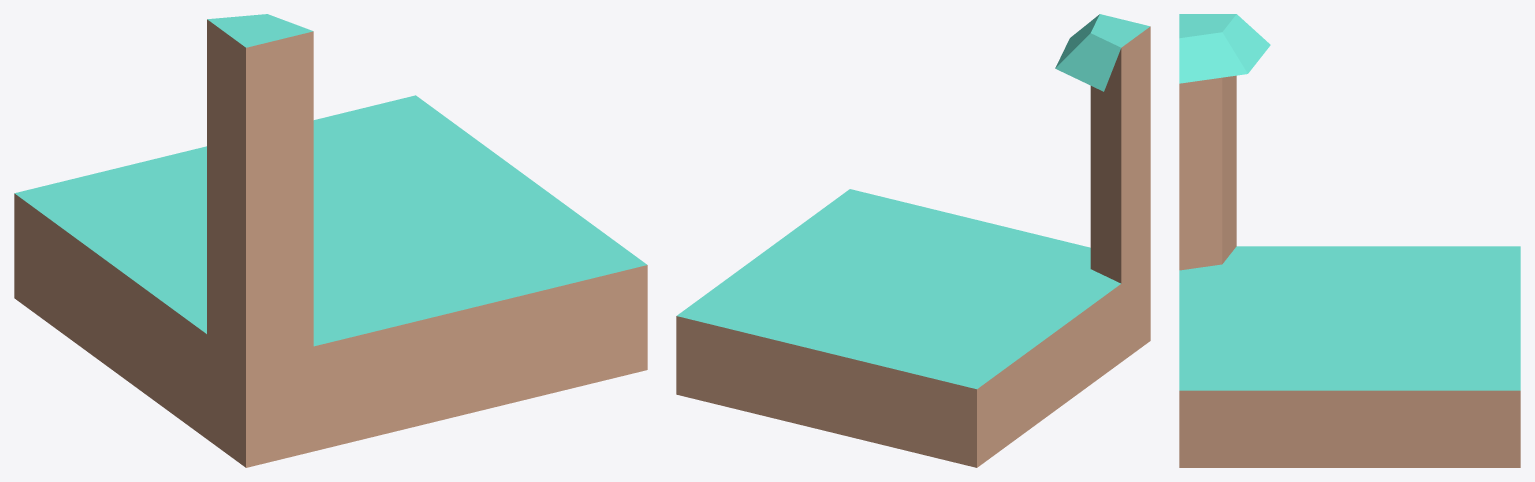
File: cliff_cornerTop_quarter_rock.glb
The picture shows the model from 3 angles, left to right: view 1: azimuth 30°, elevation 25°; view 2: azimuth 150°, elevation 25°; view 3: azimuth 270°, elevation 25°; orthographic projection. The views are drawn at different scales.
Parts seen in each view (by area): view 1: cliff_cornerTop_quarter_rock; view 2: cliff_cornerTop_quarter_rock; view 3: cliff_cornerTop_quarter_rock.
Part boxes in pixels (x1=…): cliff_cornerTop_quarter_rock: x1=14, y1=14, x2=647, y2=467; cliff_cornerTop_quarter_rock: x1=676, y1=14, x2=1150, y2=467; cliff_cornerTop_quarter_rock: x1=1179, y1=14, x2=1520, y2=467.
Size of the model in its own units: 1 by 1 by 1.
